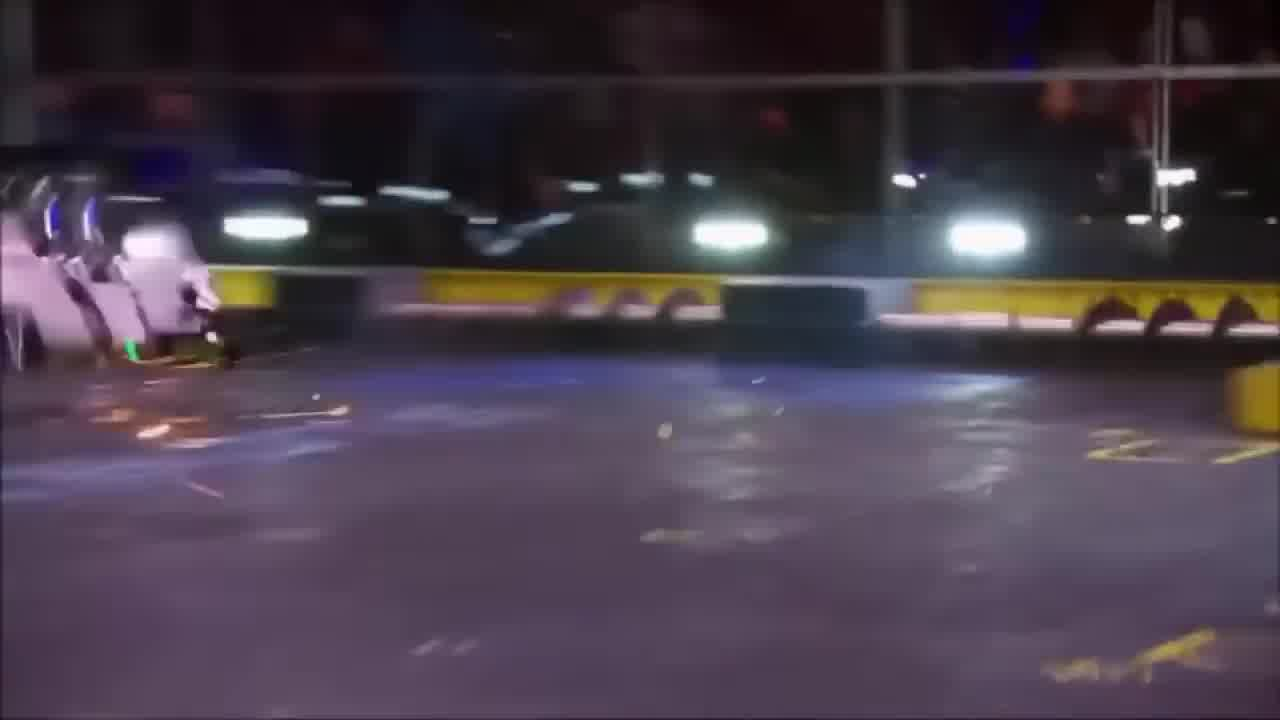combatbot: (2, 161, 237, 373), (1218, 311, 1280, 481)
